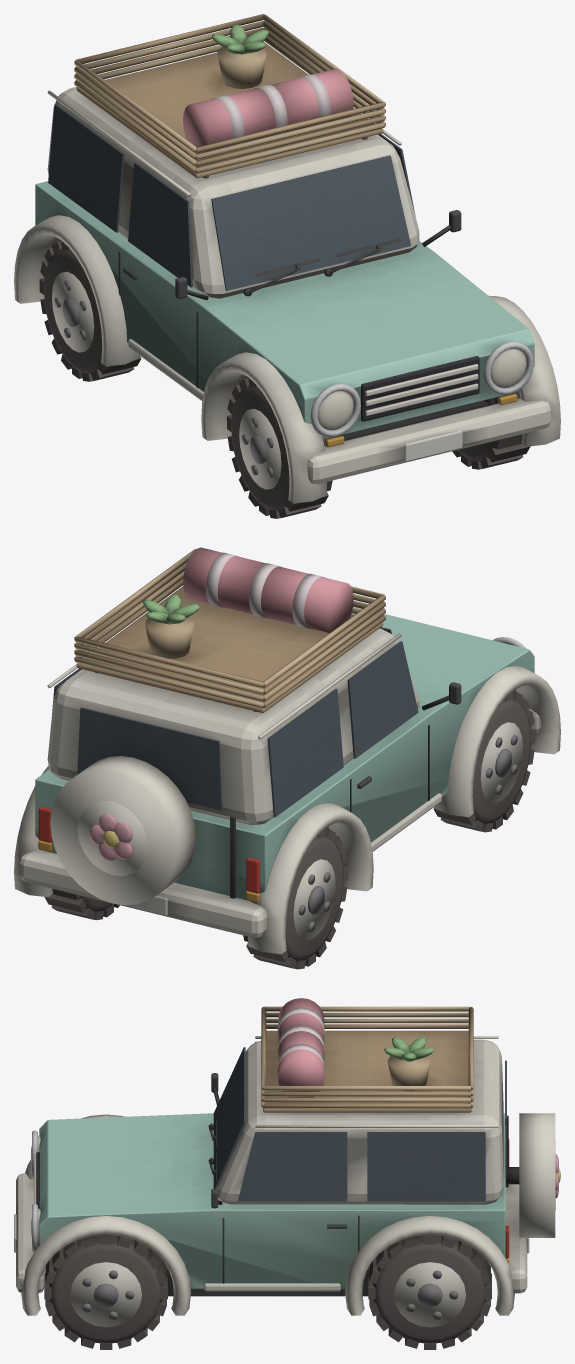
File: jeep_toy.glb
3 renders of one model, top to bottom at view 1: azimuth 30°, elevation 25°; view 2: azimuth 150°, elevation 25°; view 3: azimuth 270°, elevation 25°, orthographic. The views are drawn at different scales.
Parts seen in each view (by area): view 1: Jeep; view 2: Jeep; view 3: Jeep.
Part boxes in pixels (x1=…): Jeep: x1=14, y1=14, x2=560, y2=518; Jeep: x1=14, y1=547, x2=560, y2=969; Jeep: x1=14, y1=998, x2=560, y2=1349.
Size of the model in its own units: 1.97 by 2.08 by 3.8.
